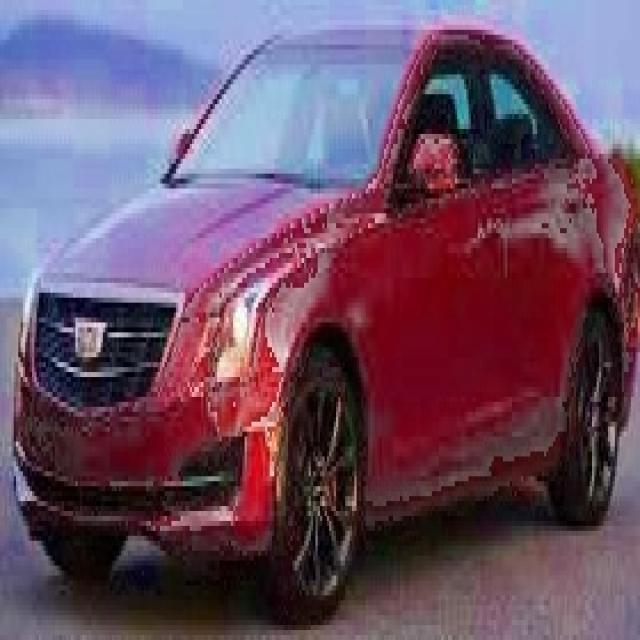maroon: (13, 29, 640, 570)
